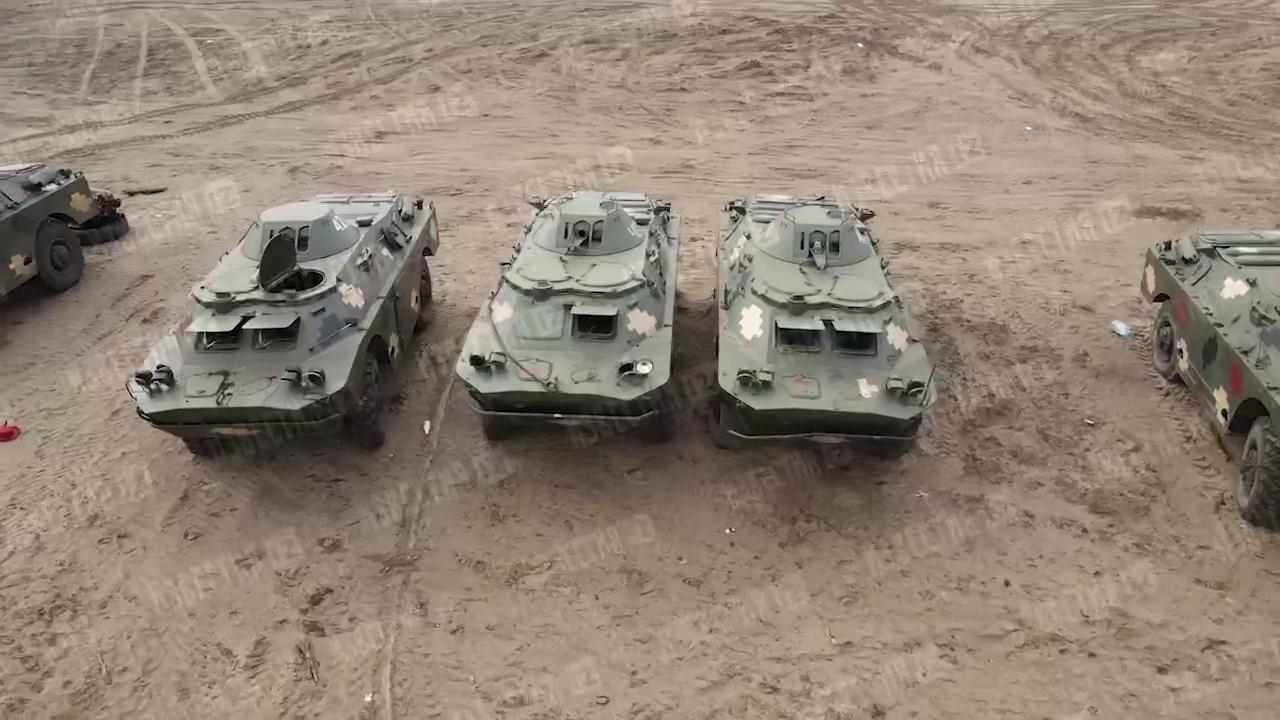tank: (128, 189, 445, 457), (711, 192, 936, 449), (452, 188, 682, 438), (1133, 217, 1280, 546), (0, 156, 109, 310)
